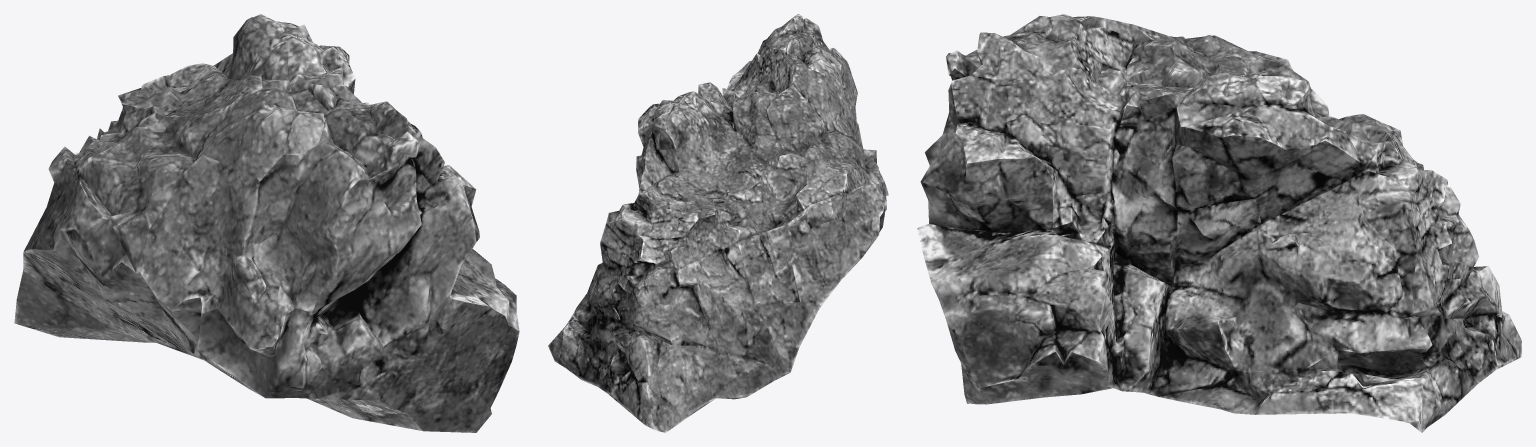
The model's file is rock0.glb.
The picture shows the model from 3 angles, left to right: view 1: azimuth 30°, elevation 25°; view 2: azimuth 150°, elevation 25°; view 3: azimuth 270°, elevation 25°; orthographic projection. The views are drawn at different scales.
Parts seen in each view (by area): view 1: boulder_01; view 2: boulder_01; view 3: boulder_01.
Boxes of the visible parts, <box> form: boulder_01: <box>14,14,519,432</box>; boulder_01: <box>548,14,888,432</box>; boulder_01: <box>917,14,1521,432</box>.
Size of the model in its own units: 1.04 by 1 by 1.5.
1 material, 1 textured.
